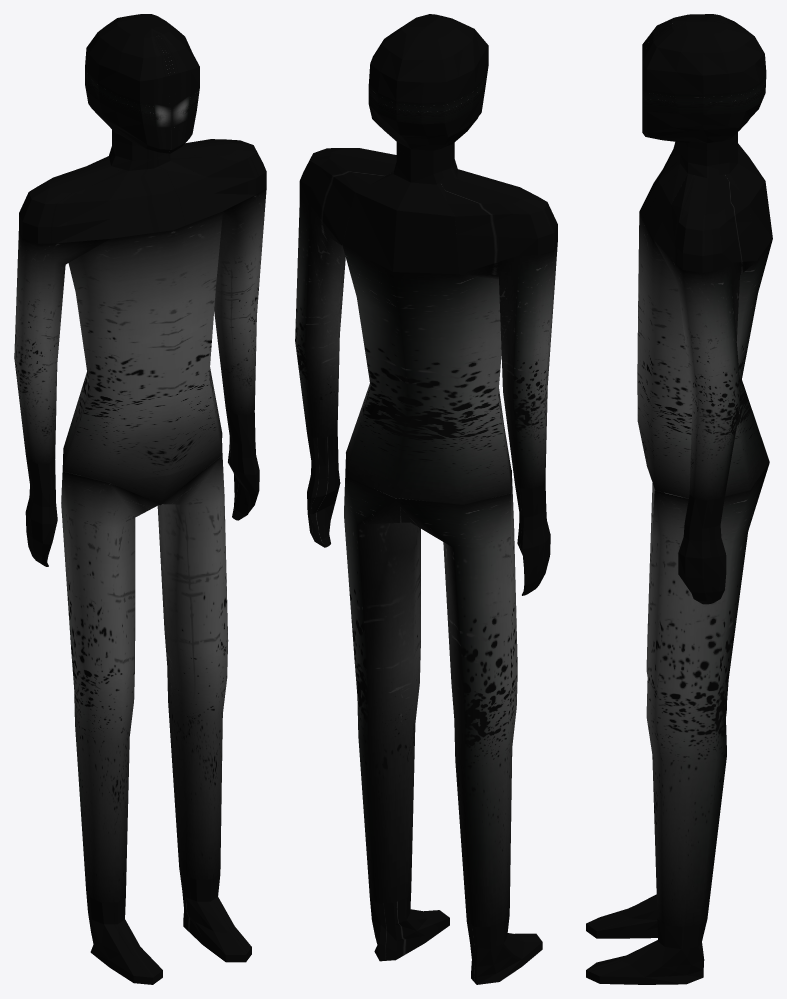
Rendered from ShadowMan_Prefab.fbx.
The picture shows the model from 3 angles, left to right: view 1: azimuth 30°, elevation 25°; view 2: azimuth 150°, elevation 25°; view 3: azimuth 270°, elevation 25°; orthographic projection. The views are drawn at different scales.
Visible parts, largest first — view 1: Cylinder001; view 2: Cylinder001; view 3: Cylinder001.
Boxes of the visible parts, <box> form: Cylinder001: <box>14,14,266,984</box>; Cylinder001: <box>295,14,557,984</box>; Cylinder001: <box>586,14,772,984</box>.
Size of the model in its own units: 22.92 by 82.77 by 15.03.
